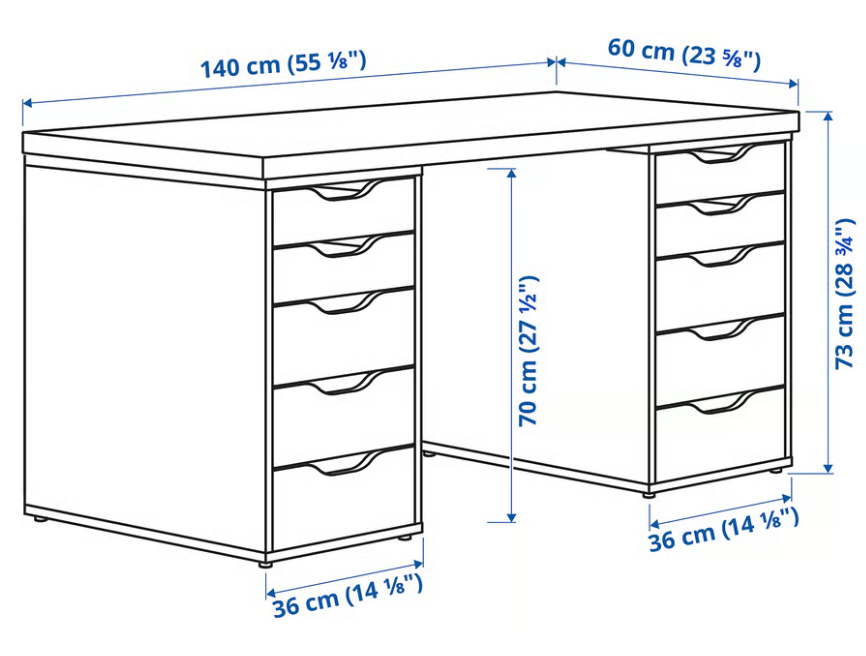table_drawer: (273, 446, 415, 552), (272, 366, 414, 468), (272, 288, 415, 387), (655, 386, 785, 483), (656, 316, 785, 408), (655, 243, 785, 333), (273, 233, 415, 304), (272, 177, 415, 247), (656, 192, 785, 258), (656, 142, 785, 205)
table_legs: (25, 504, 422, 567), (422, 441, 792, 498)
table_support: (24, 154, 422, 553), (422, 150, 649, 484)
table_top: (22, 90, 800, 181)
